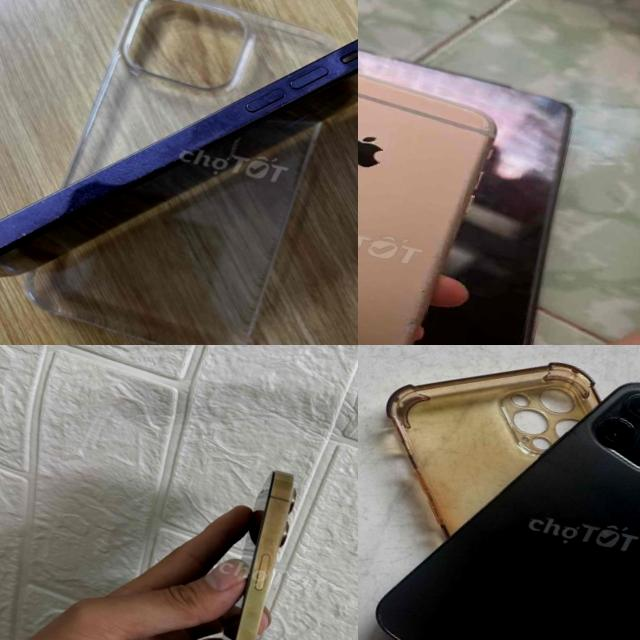scratch: (362, 191, 479, 345), (434, 94, 540, 154), (8, 218, 54, 261)
